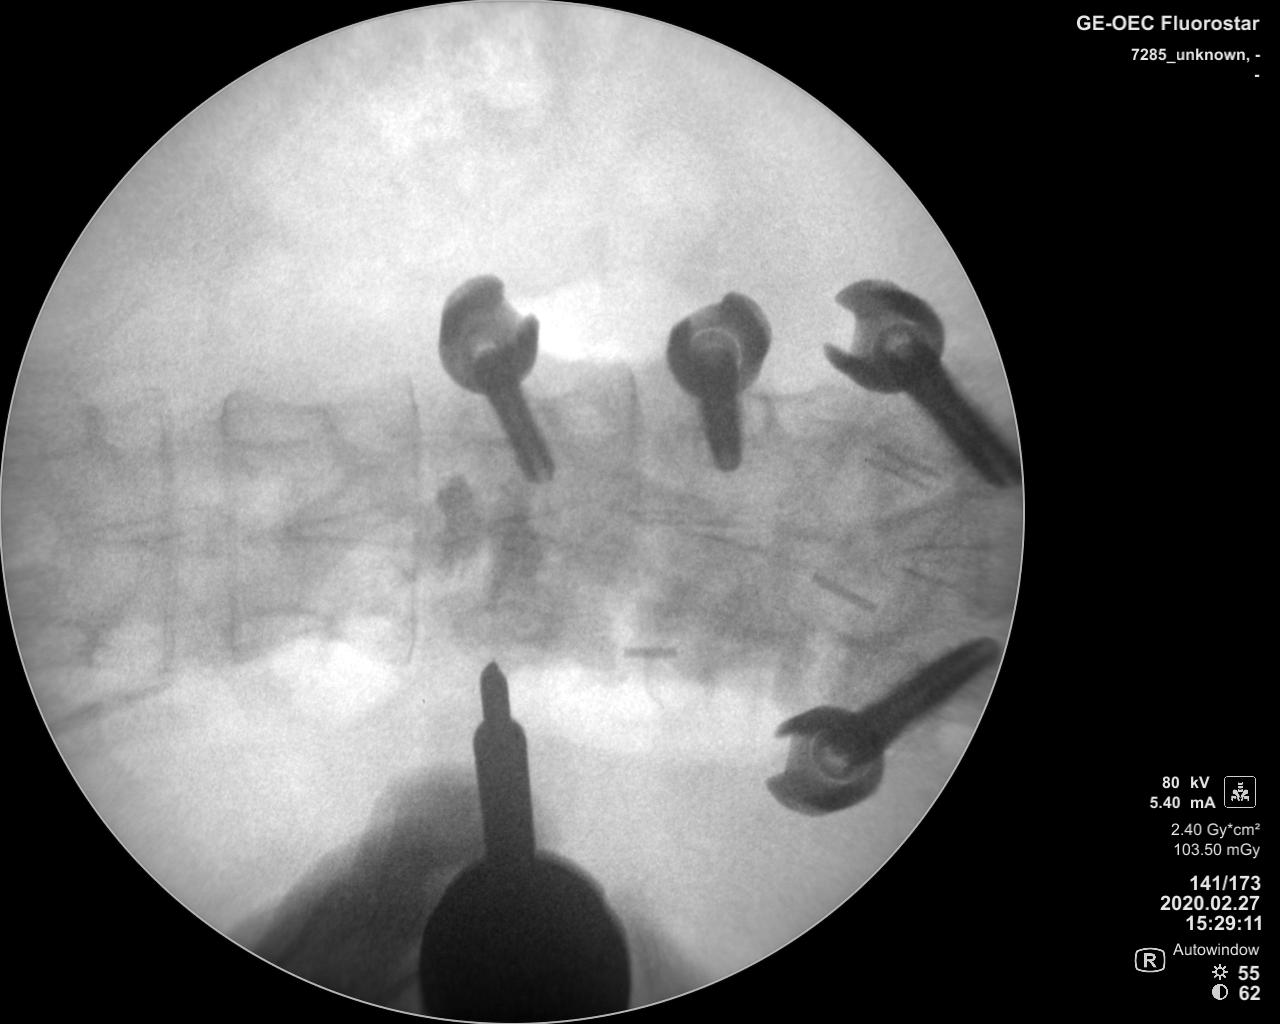eyes: (222, 397, 334, 451), (7, 405, 100, 461), (449, 601, 552, 648), (236, 606, 333, 650), (16, 616, 95, 664)
line: (395, 373, 430, 677), (146, 388, 177, 686)
nose: (478, 501, 637, 553), (279, 499, 438, 552), (76, 508, 227, 556)
